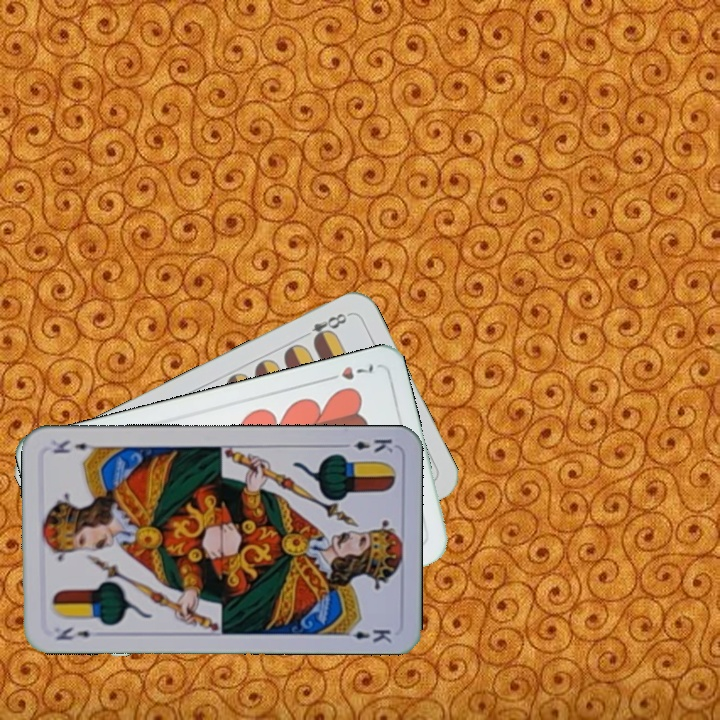E8: (297, 309, 352, 346)
EK: (337, 435, 396, 456), (52, 623, 93, 643)
H7: (321, 360, 378, 384)
